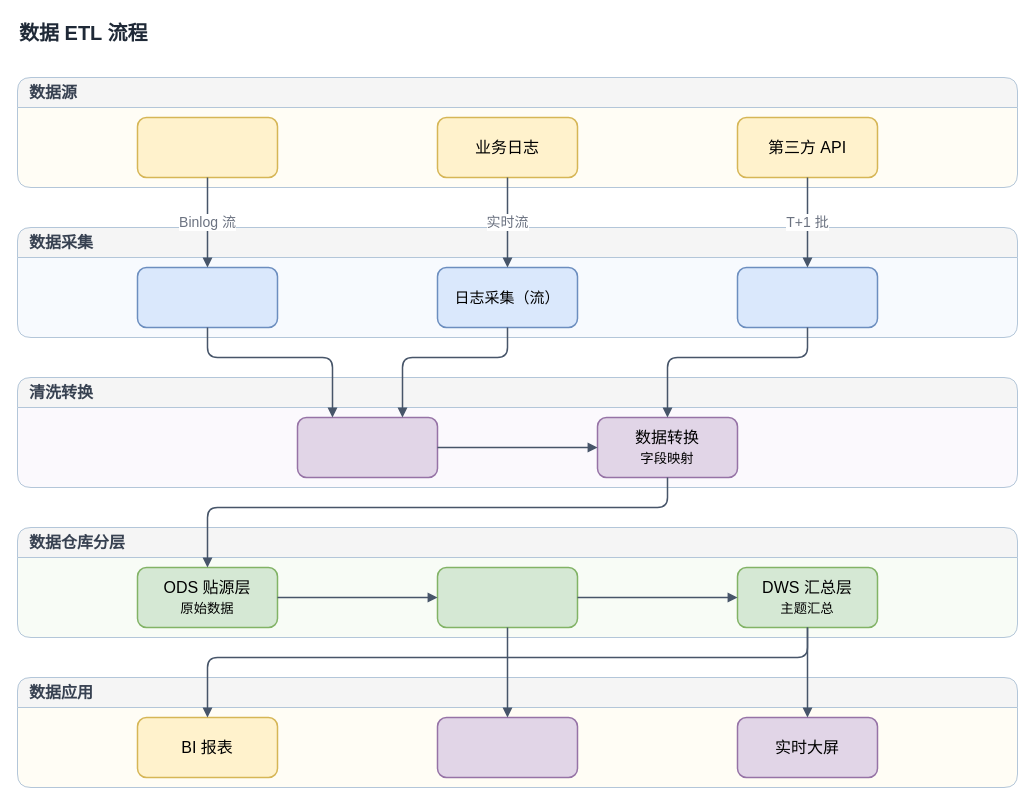
This 1035x805 diagram has some shape labels left out. Here are the shapes that lost their labels. From the top down, the centre of each, then its label:
the point at 207,147: 业务库 MySQL
the point at 207,297: CDC 采集（流）
the point at 807,297: 离线同步（批）
the point at 367,447: 数据清洗 去重 / 补全
the point at 507,597: DWD 明细层 清洗后明细
the point at 507,747: 数据服务 API
